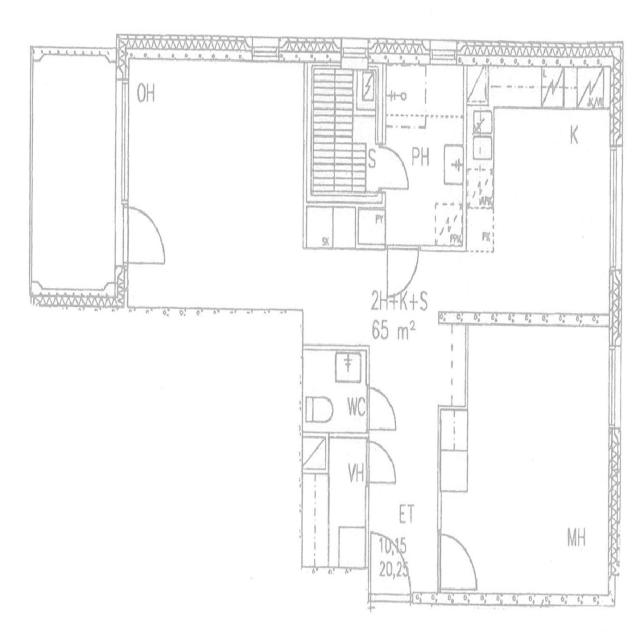door: (124, 199, 169, 270), (438, 527, 480, 596), (384, 242, 422, 302), (364, 436, 400, 489), (365, 383, 401, 434), (376, 144, 411, 192)
window: (110, 73, 137, 213), (604, 143, 626, 278), (604, 341, 625, 437), (368, 588, 413, 610)
zone: (447, 321, 616, 601), (127, 56, 307, 310), (478, 81, 617, 322), (29, 50, 121, 306), (384, 62, 466, 254), (300, 434, 368, 574), (302, 348, 368, 436), (303, 207, 376, 252), (366, 143, 410, 194), (466, 208, 495, 255)
